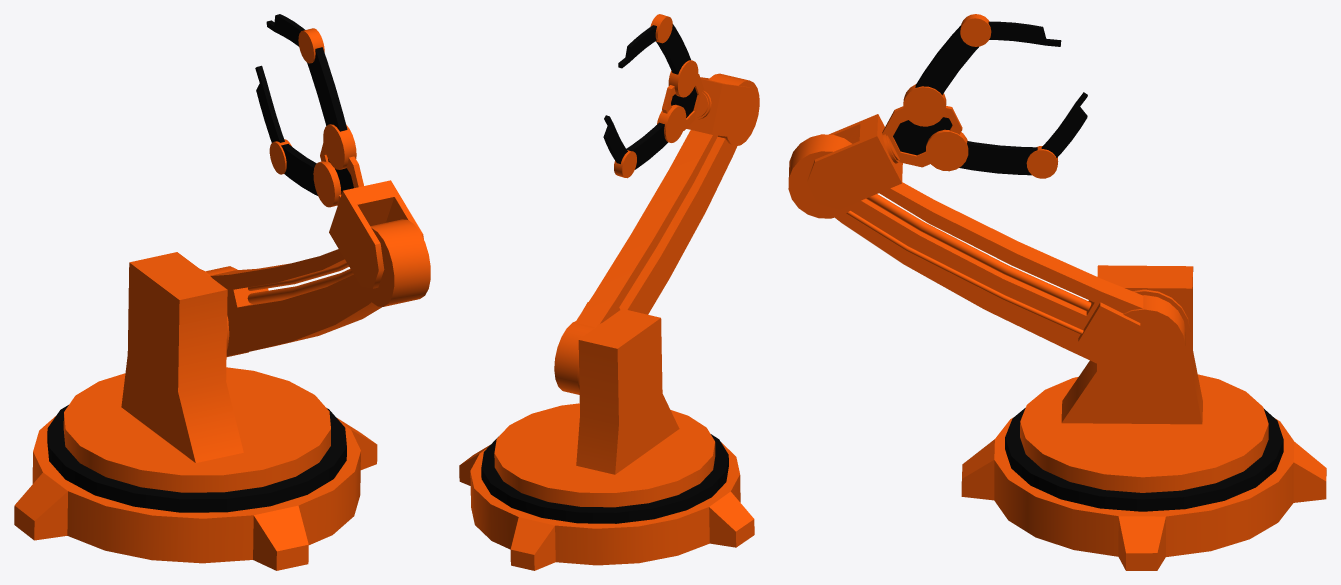
File: kuka.glb
The picture shows the model from 3 angles, left to right: view 1: azimuth 30°, elevation 25°; view 2: azimuth 150°, elevation 25°; view 3: azimuth 270°, elevation 25°; orthographic projection. The views are drawn at different scales.
Parts seen in each view (by area): view 1: pasted__pCylinder4_blinn3_0; view 2: pasted__pCylinder4_blinn3_0; view 3: pasted__pCylinder4_blinn3_0.
Part boxes in pixels (x1,y1,x2,y2): pasted__pCylinder4_blinn3_0: (14, 14, 430, 570); pasted__pCylinder4_blinn3_0: (459, 14, 759, 570); pasted__pCylinder4_blinn3_0: (788, 14, 1326, 570).
Bounding box in the file's own units: 2.41 × 3.56 × 3.55.
